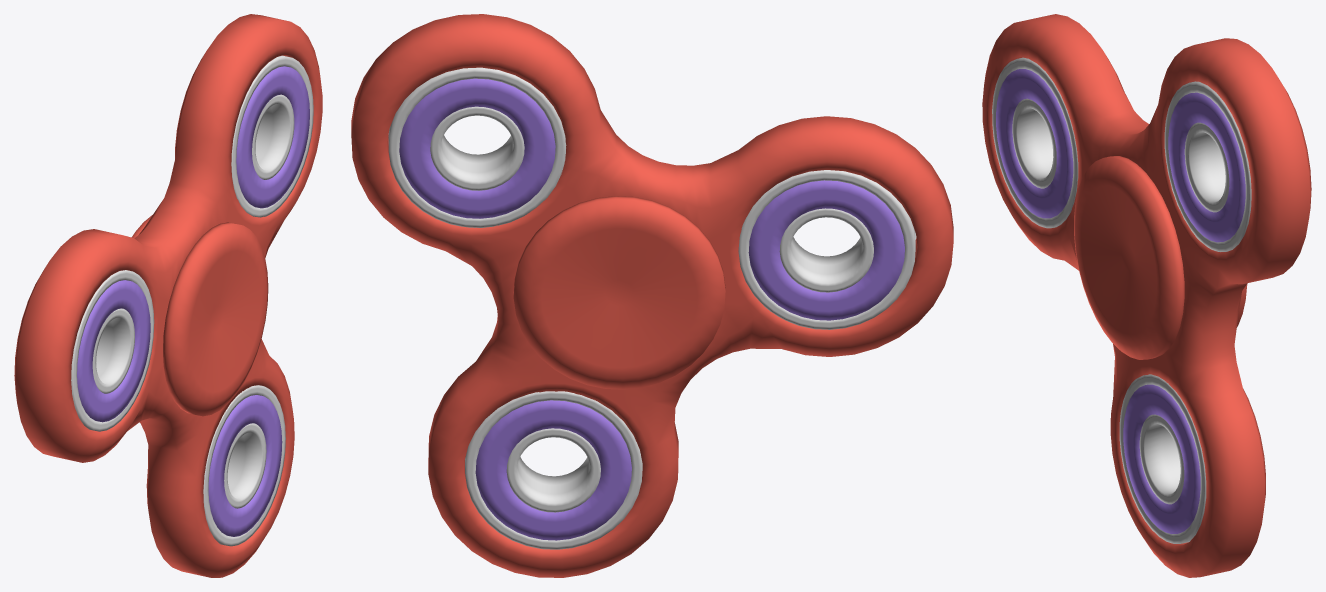
The picture shows the model from 3 angles, left to right: view 1: azimuth 30°, elevation 25°; view 2: azimuth 150°, elevation 25°; view 3: azimuth 270°, elevation 25°; orthographic projection. The views are drawn at different scales.
Parts seen in each view (by area): view 1: Spinner.001; view 2: Spinner.001; view 3: Spinner.001.
Part boxes in pixels (x1=…): Spinner.001: x1=14, y1=14, x2=322, y2=577; Spinner.001: x1=351, y1=14, x2=953, y2=577; Spinner.001: x1=982, y1=14, x2=1311, y2=577.
Bounding box in the file's own units: 0.9873 × 1.12 × 0.6194.
